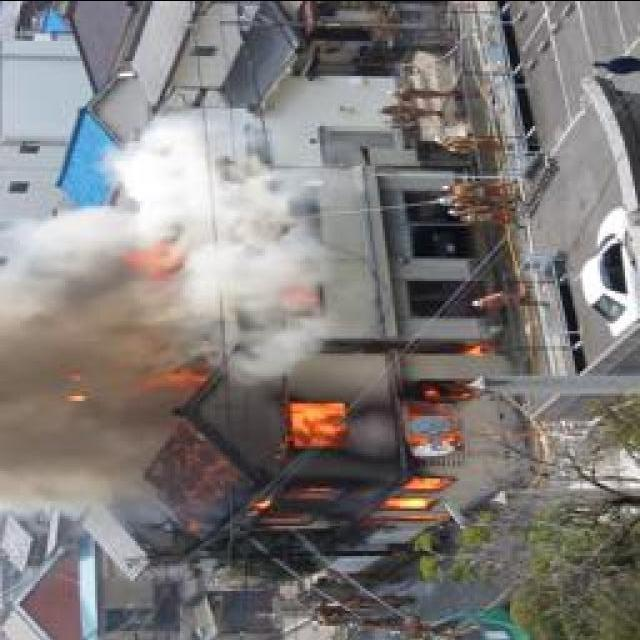Fire: (236, 330, 514, 555)
